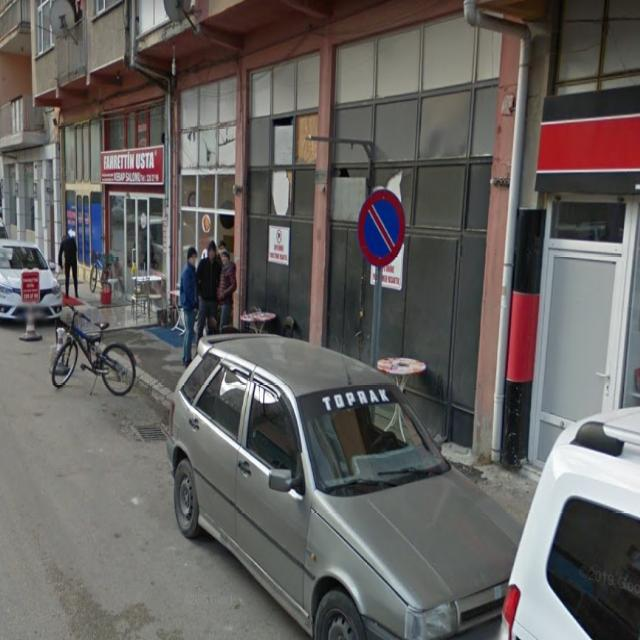parkyasak: (358, 190, 406, 266)
